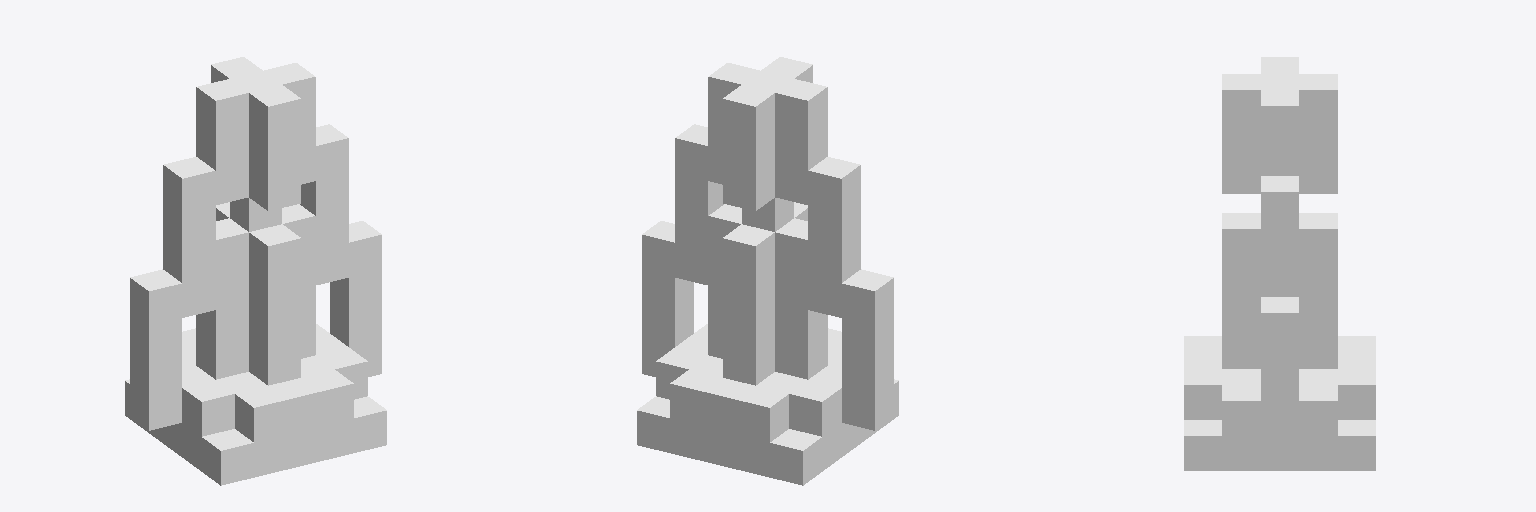
The model's file is lvl2-10.obj.
3 renders of one model, left to right at view 1: azimuth 30°, elevation 25°; view 2: azimuth 150°, elevation 25°; view 3: azimuth 270°, elevation 25°, orthographic.
Parts seen in each view (by area): view 1: object 1; view 2: object 1; view 3: object 1.
Boxes of the visible parts, x1=… form: object 1: x1=125, y1=57, x2=386, y2=485; object 1: x1=637, y1=57, x2=898, y2=485; object 1: x1=1184, y1=57, x2=1375, y2=470.
Size of the model in its own units: 0.7 by 1 by 0.5.